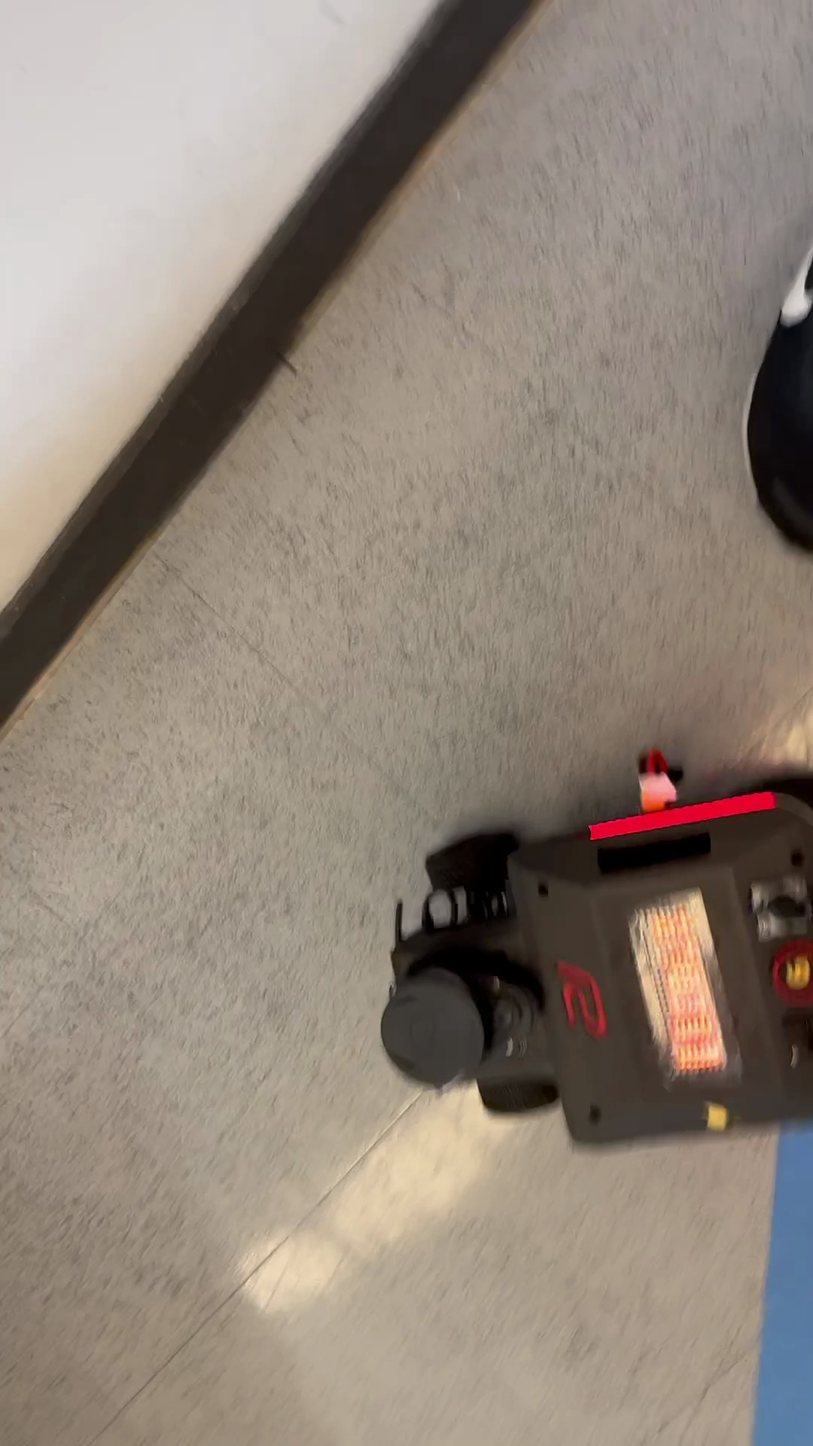racecar: (373, 742, 810, 1143)
